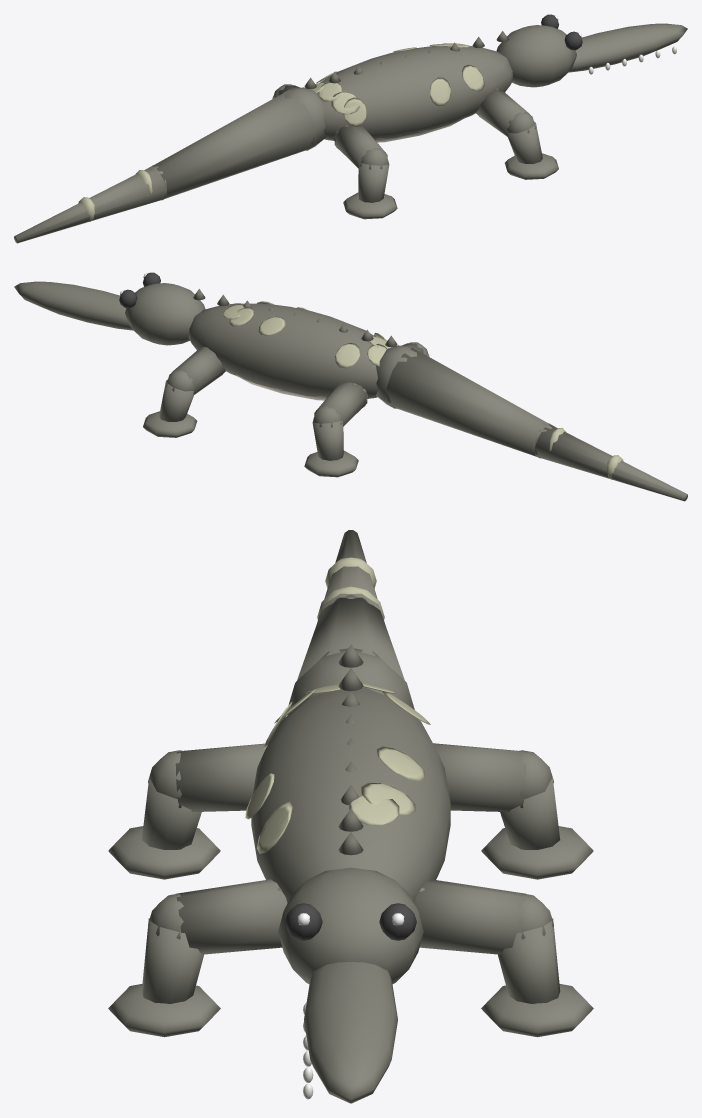
Rendered from chinese-alligator.glb.
3 views of the same model, one above another, from view 1: azimuth 30°, elevation 25°; view 2: azimuth 150°, elevation 25°; view 3: azimuth 270°, elevation 25° (orthographic). The views are drawn at different scales.
Visible parts, largest first — view 1: cone, e.024, e.012, e.031, e.041; view 2: cone, e.024, e.012, e.046, e.036; view 3: cone, e.012, e.031, e.036, e.046, e.041, e.024.
Boxes of the visible parts, <box> form: cone: <box>304,31,513,142</box>; e.024: <box>14,87,325,243</box>; e.012: <box>496,14,687,87</box>; e.031: <box>476,88,558,179</box>; e.041: <box>334,125,397,219</box>; cone: <box>188,289,397,400</box>; e.024: <box>376,345,687,501</box>; e.012: <box>14,272,205,345</box>; e.046: <box>304,382,367,477</box>; e.036: <box>143,346,225,437</box>; cone: <box>245,644,450,903</box>; e.012: <box>278,867,423,1103</box>; e.031: <box>108,879,287,1037</box>; e.036: <box>414,879,593,1037</box>; e.046: <box>433,743,593,879</box>; e.041: <box>108,743,267,879</box>; e.024: <box>287,530,414,715</box>.
Size of the model in its own units: 1.69 by 0.2605 by 0.5302.
